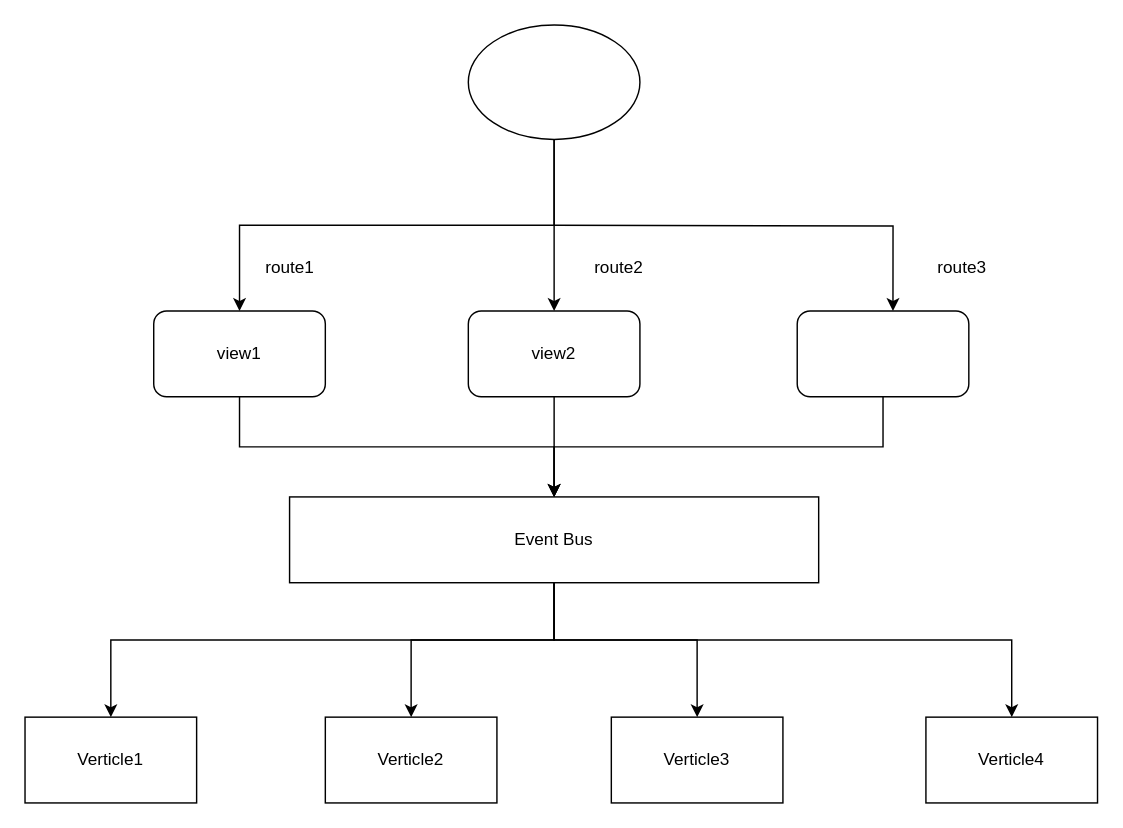
Some shapes in this 1123 by 828 pixel diagram are drawn without their labels. Each missing label, with the centre of its shape:
view3: the point at 882,353
web server: the point at 553,81
